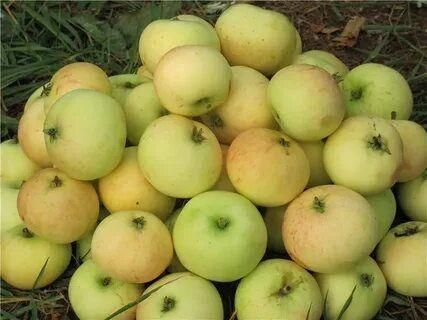Apple: (173, 190, 267, 284), (282, 182, 378, 272), (43, 95, 127, 181), (137, 116, 223, 197), (227, 129, 310, 209), (16, 170, 98, 246), (91, 210, 172, 284), (270, 66, 346, 142), (154, 48, 232, 115)
